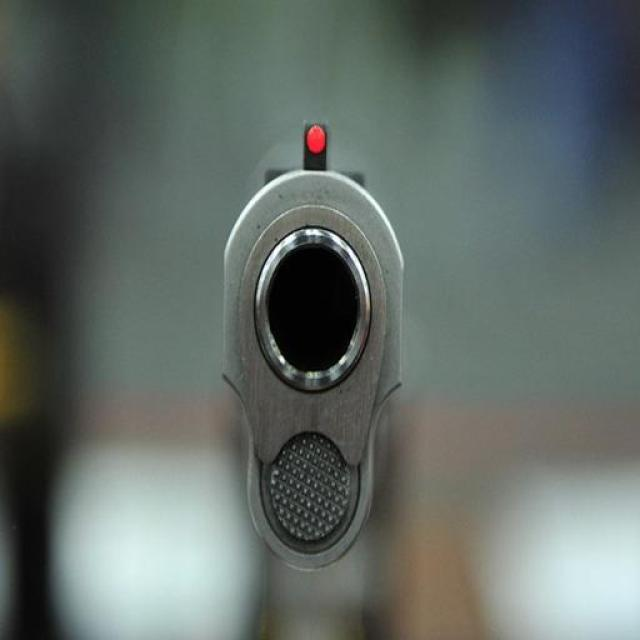pistol: (214, 76, 414, 636)
